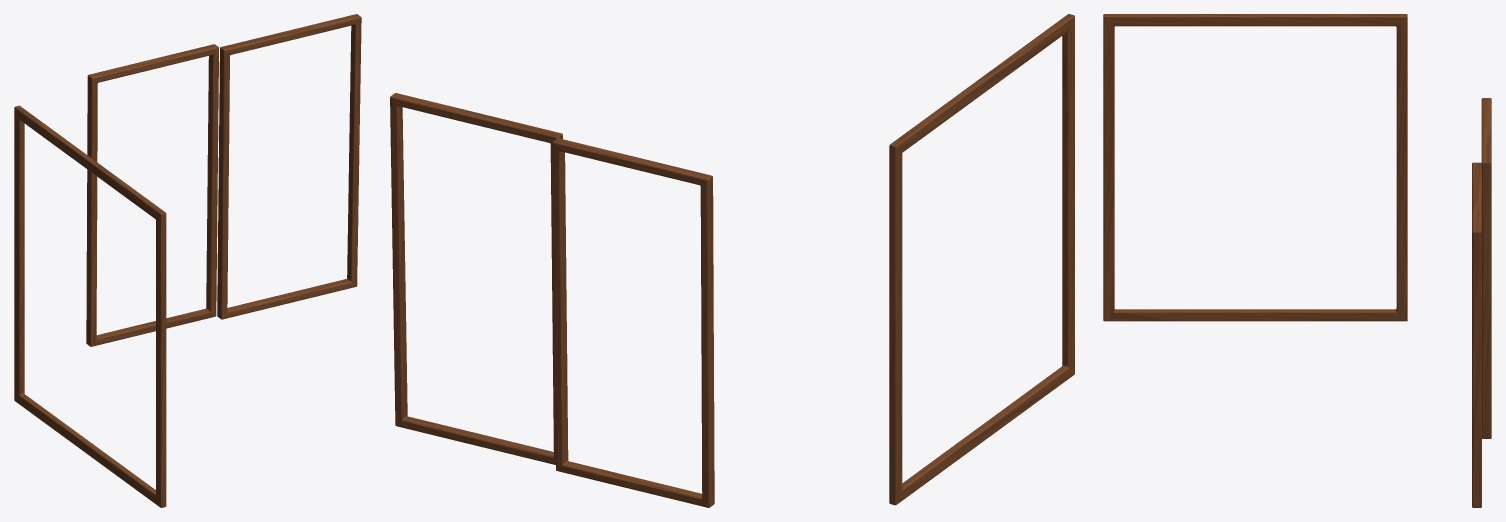
Rendered from M_Furniture_005.fbx.
The picture shows the model from 3 angles, left to right: view 1: azimuth 30°, elevation 25°; view 2: azimuth 150°, elevation 25°; view 3: azimuth 270°, elevation 25°; orthographic projection. The views are drawn at different scales.
Parts seen in each view (by area): view 1: M_Furniture_005; view 2: M_Furniture_005; view 3: M_Furniture_005.
Boxes of the visible parts, left/top/right/bottom form: M_Furniture_005: left=14, top=14, right=361, bottom=507; M_Furniture_005: left=390, top=14, right=1074, bottom=507; M_Furniture_005: left=1103, top=14, right=1491, bottom=507.
Size of the model in its own units: 439 by 326 by 376.
Materials: 1 (1 with a texture image).
